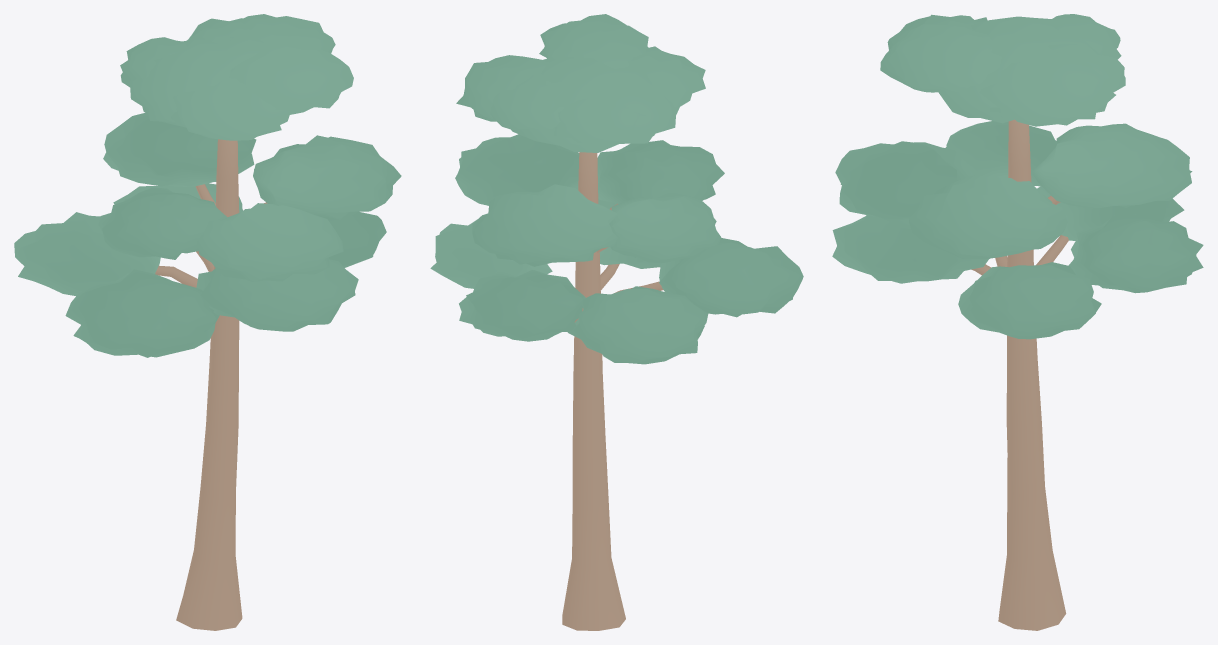
Rendered from Blender_Pine_2.glb.
3 views of the same model, side by side, from view 1: azimuth 30°, elevation 25°; view 2: azimuth 150°, elevation 25°; view 3: azimuth 270°, elevation 25° (orthographic). The views are drawn at different scales.
Parts seen in each view (by area): view 1: Blender_Pine_2; view 2: Blender_Pine_2; view 3: Blender_Pine_2.
Part boxes in pixels (x1,y1,x2,y2): Blender_Pine_2: [14, 14, 401, 630]; Blender_Pine_2: [430, 14, 803, 630]; Blender_Pine_2: [832, 14, 1203, 630].
Bounding box in the file's own units: 11.02 × 18.44 × 10.31.
